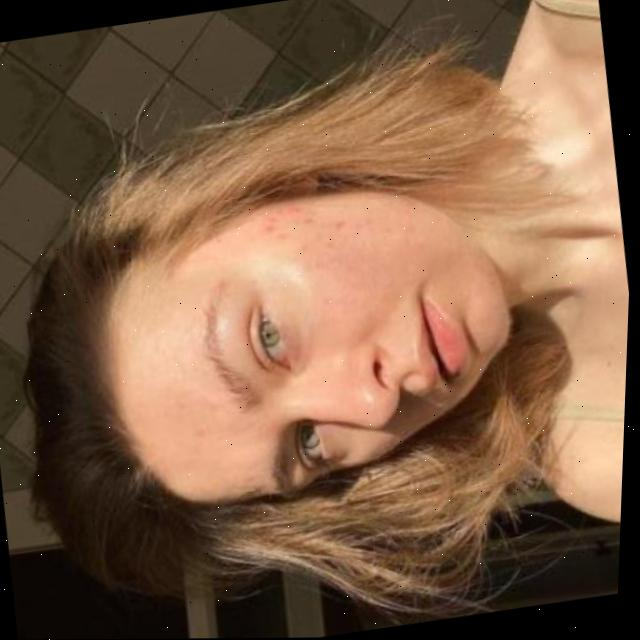Acne: (260, 188, 363, 298)
